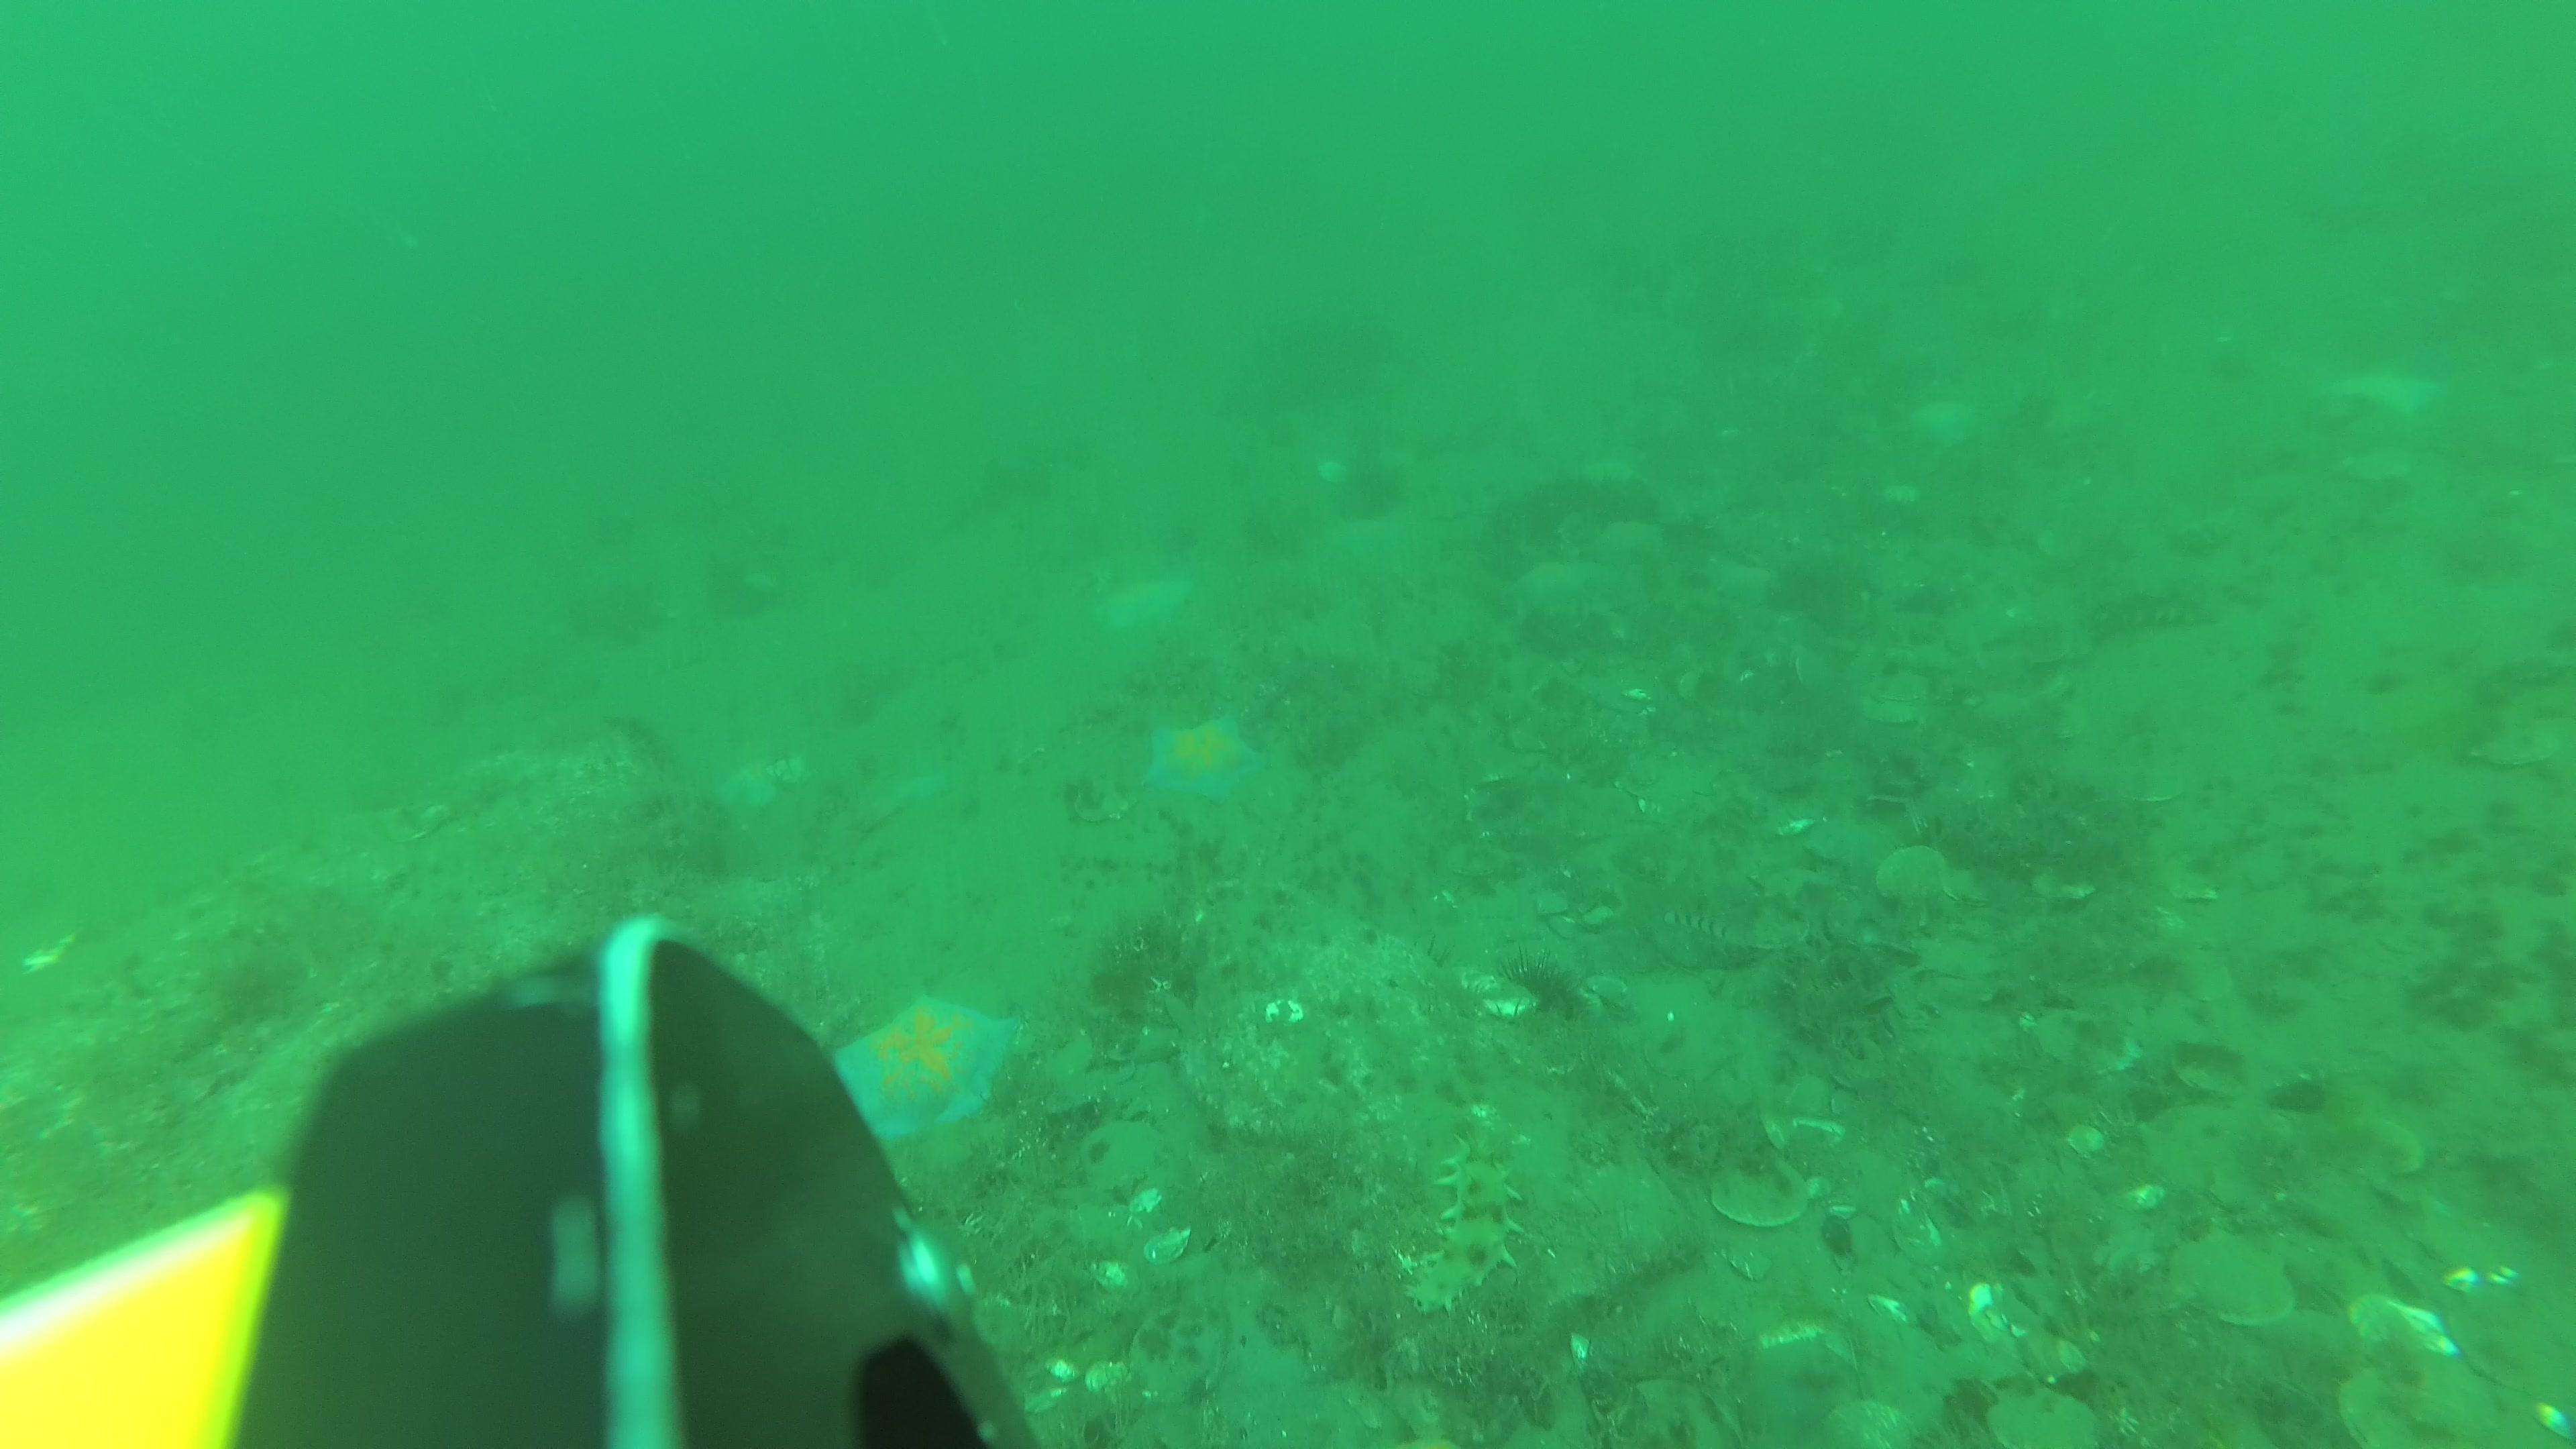echinus: (1488, 947, 1583, 1046)
holothurian: (1398, 1148, 1518, 1313), (2089, 586, 2219, 639)
scallop: (2146, 1097, 2282, 1212), (2171, 1228, 2300, 1334), (2342, 1364, 2493, 1449), (1757, 1316, 1863, 1391), (2341, 1113, 2427, 1198), (1982, 1385, 2097, 1449), (1711, 1152, 1806, 1228), (2040, 1003, 2134, 1074), (1877, 847, 1959, 913), (1822, 1394, 1905, 1449)
starfish: (828, 987, 1014, 1152), (1145, 704, 1265, 794), (2323, 372, 2440, 426), (872, 759, 959, 830), (1097, 577, 1194, 639), (1507, 557, 1605, 617), (720, 750, 801, 812), (1909, 396, 1976, 460)
